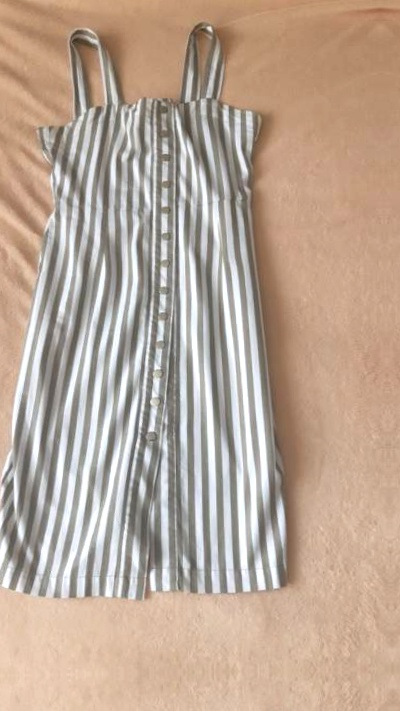Dress: (0, 18, 300, 620)
